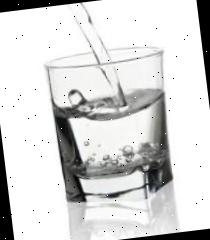glass: (42, 39, 180, 218)
